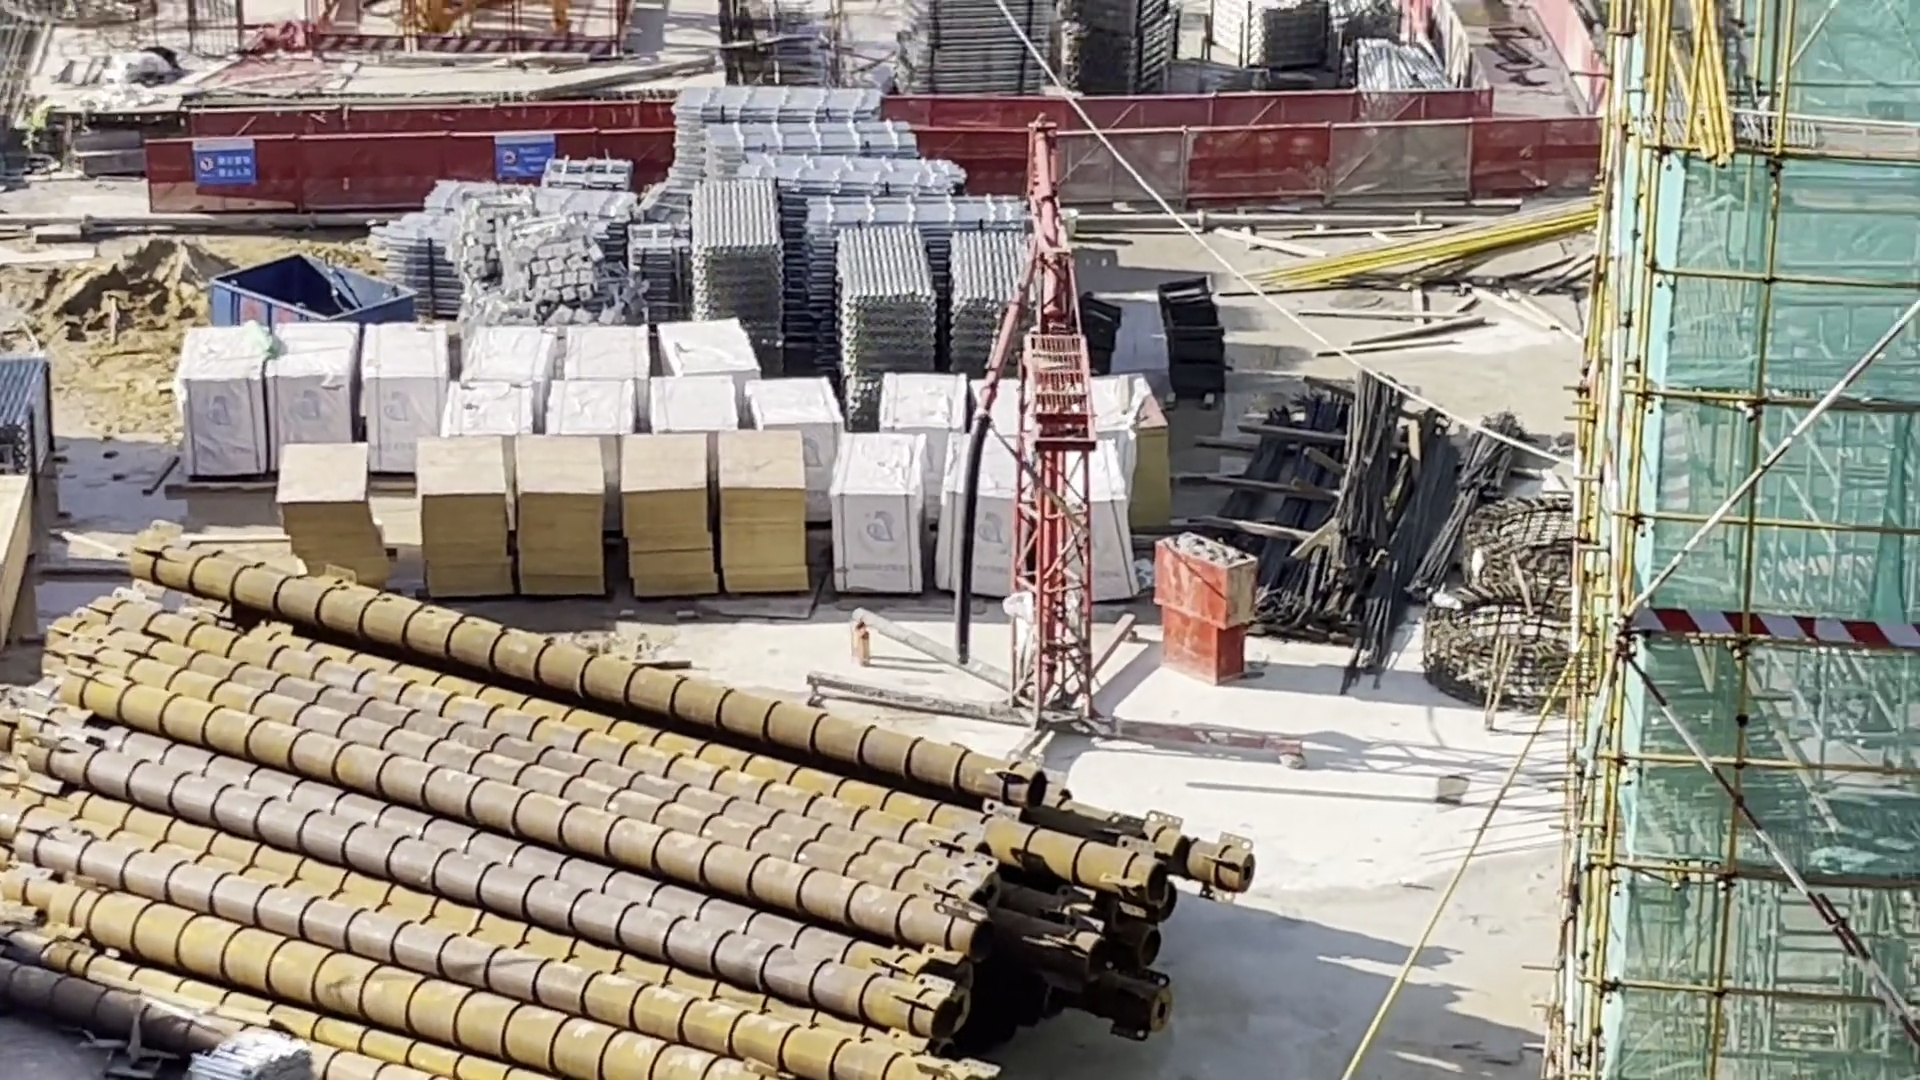board: (611, 411, 727, 613), (264, 426, 400, 585), (510, 413, 618, 609), (713, 400, 815, 604), (407, 425, 518, 604)
hopper: (208, 237, 425, 331)
scaffold: (832, 214, 939, 419), (687, 166, 791, 372), (717, 142, 969, 200), (949, 223, 1033, 386), (659, 119, 928, 164), (678, 76, 891, 124), (1, 351, 76, 480)
slogan: (185, 131, 266, 190), (489, 128, 563, 190)
